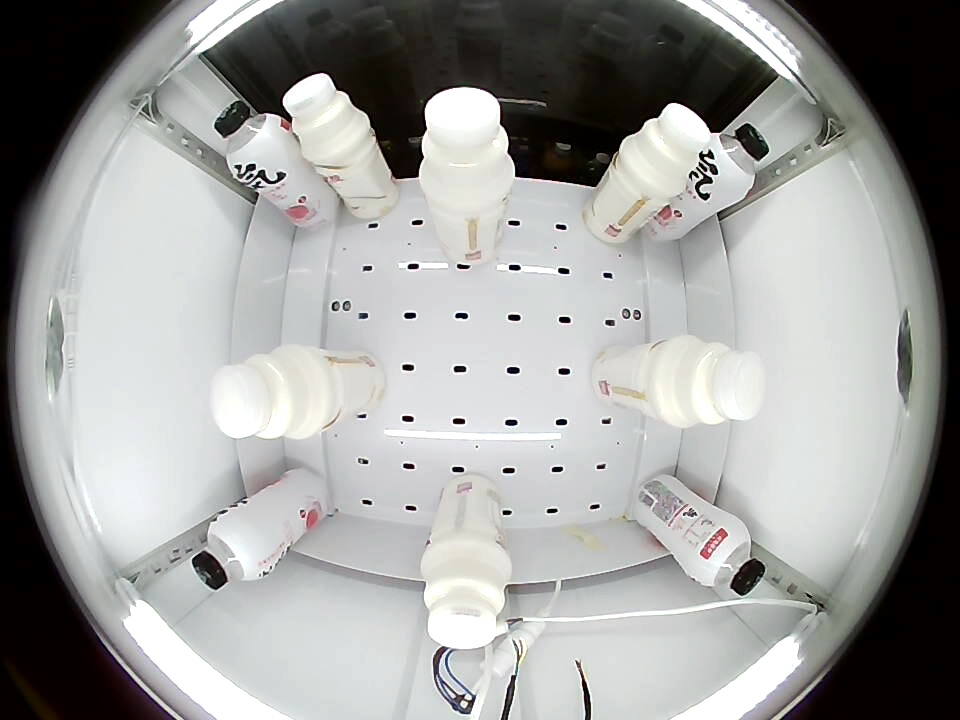yingyangkuaixian: (418, 87, 516, 210), (210, 345, 328, 441), (654, 335, 765, 429), (420, 537, 513, 648), (615, 103, 711, 197), (282, 73, 372, 163)
yuanqishui: (190, 512, 272, 590), (213, 100, 293, 179), (688, 518, 768, 596), (696, 124, 772, 199)
